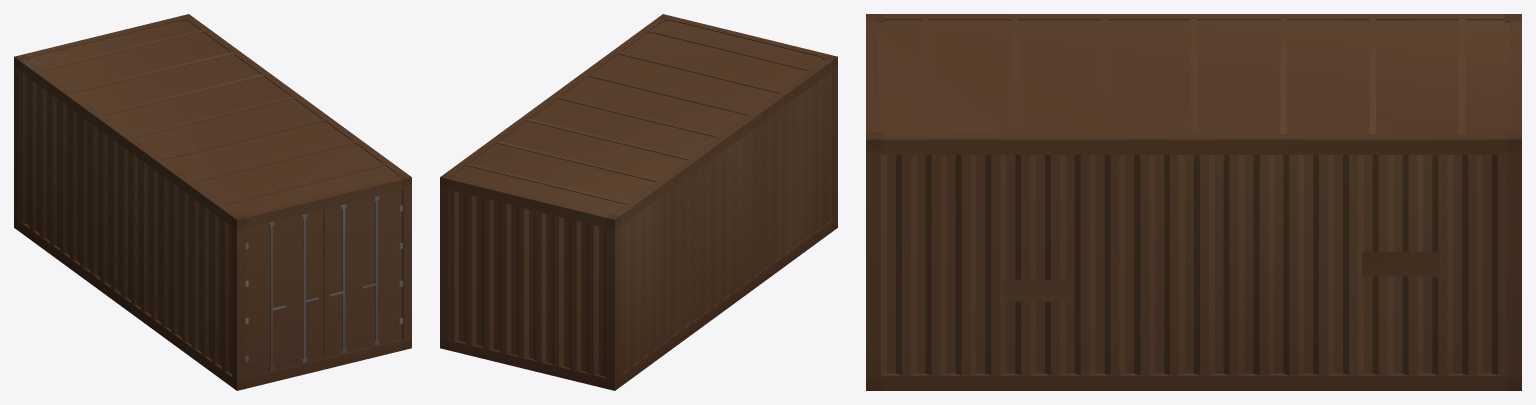
Rendered from container.shipping.rusty.glb.
The picture shows the model from 3 angles, left to right: view 1: azimuth 30°, elevation 25°; view 2: azimuth 150°, elevation 25°; view 3: azimuth 270°, elevation 25°; orthographic projection. The views are drawn at different scales.
Visible parts, largest first — view 1: container_shipping_rusty; view 2: container_shipping_rusty; view 3: container_shipping_rusty.
Part boxes in pixels (<box>): container_shipping_rusty: <box>14,14,411,390</box>; container_shipping_rusty: <box>440,14,837,390</box>; container_shipping_rusty: <box>866,14,1521,390</box>.
Size of what is drawn, in the model's own units: 2.78 by 2.6 by 6.14.
